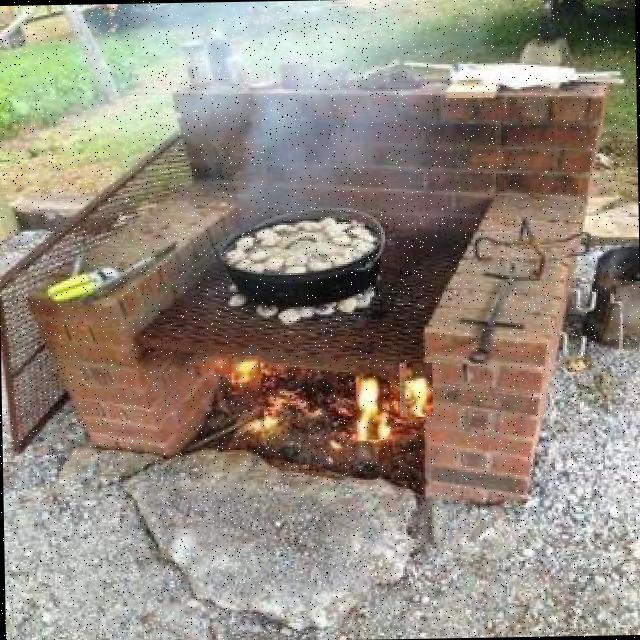fire: (355, 362, 390, 440), (398, 362, 432, 417), (230, 355, 260, 395)
